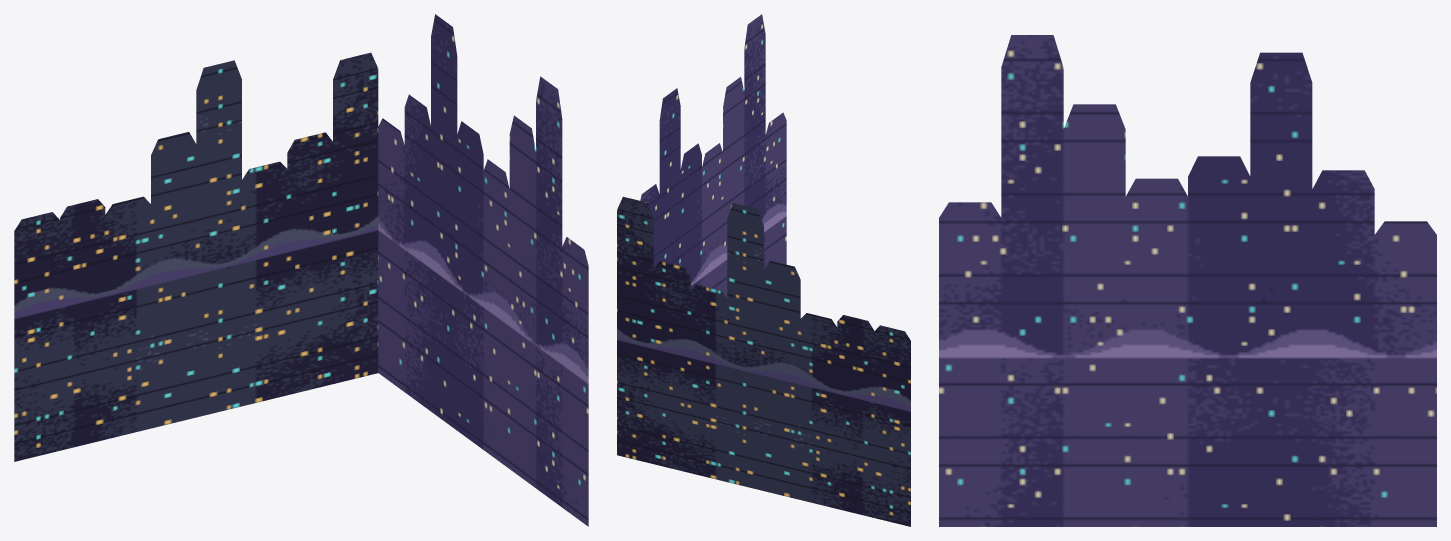
File: cysky.corner.glb
3 views of the same model, side by side, from view 1: azimuth 30°, elevation 25°; view 2: azimuth 150°, elevation 25°; view 3: azimuth 270°, elevation 25° (orthographic). The views are drawn at different scales.
Visible parts, largest first — view 1: kit_card_skyline_a, kit_card_skyline_b; view 2: kit_card_skyline_a, kit_card_skyline_b; view 3: kit_card_skyline_b.
Boxes of the visible parts, bbox=[...] form: kit_card_skyline_a: bbox=[14, 52, 378, 461]; kit_card_skyline_b: bbox=[378, 14, 588, 526]; kit_card_skyline_a: bbox=[617, 196, 910, 526]; kit_card_skyline_b: bbox=[640, 14, 786, 298]; kit_card_skyline_b: bbox=[939, 35, 1436, 526].
Bounding box in the file's own units: 32 × 34.88 × 32.
Materials: 2 (2 with a texture image).
